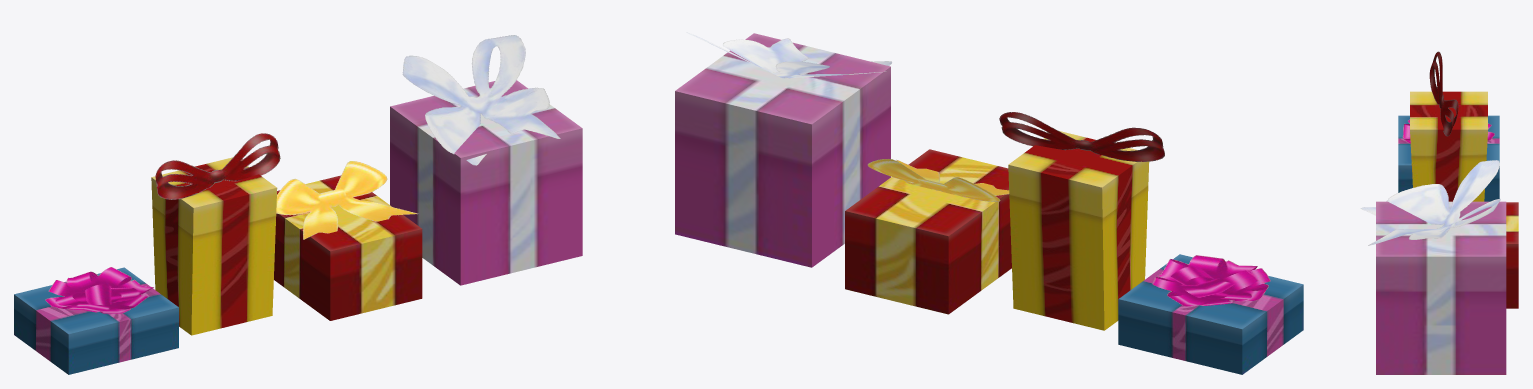
The model's file is Christmas box 4.fbx.
The picture shows the model from 3 angles, left to right: view 1: azimuth 30°, elevation 25°; view 2: azimuth 150°, elevation 25°; view 3: azimuth 270°, elevation 25°; orthographic projection. The views are drawn at different scales.
Parts seen in each view (by area): view 1: christmas_box1, Christmas_box3, Christmas_box2, Christmas_box4; view 2: christmas_box1, Christmas_box3, Christmas_box2, Christmas_box4; view 3: christmas_box1, Christmas_box3, Christmas_box4, Christmas_box2.
Boxes of the visible parts, x1=… form: christmas_box1: x1=390, y1=35, x2=582, y2=285; Christmas_box3: x1=151, y1=133, x2=280, y2=335; Christmas_box2: x1=274, y1=161, x2=422, y2=320; Christmas_box4: x1=14, y1=267, x2=178, y2=374; christmas_box1: x1=675, y1=32, x2=891, y2=267; Christmas_box3: x1=999, y1=112, x2=1164, y2=330; Christmas_box2: x1=845, y1=149, x2=1011, y2=314; Christmas_box4: x1=1118, y1=254, x2=1303, y2=374; christmas_box1: x1=1360, y1=160, x2=1506, y2=374; Christmas_box3: x1=1410, y1=51, x2=1487, y2=201; Christmas_box4: x1=1398, y1=115, x2=1499, y2=201; Christmas_box2: x1=1459, y1=186, x2=1518, y2=308.
Size of the model in its own units: 251 by 91.35 by 82.71.
